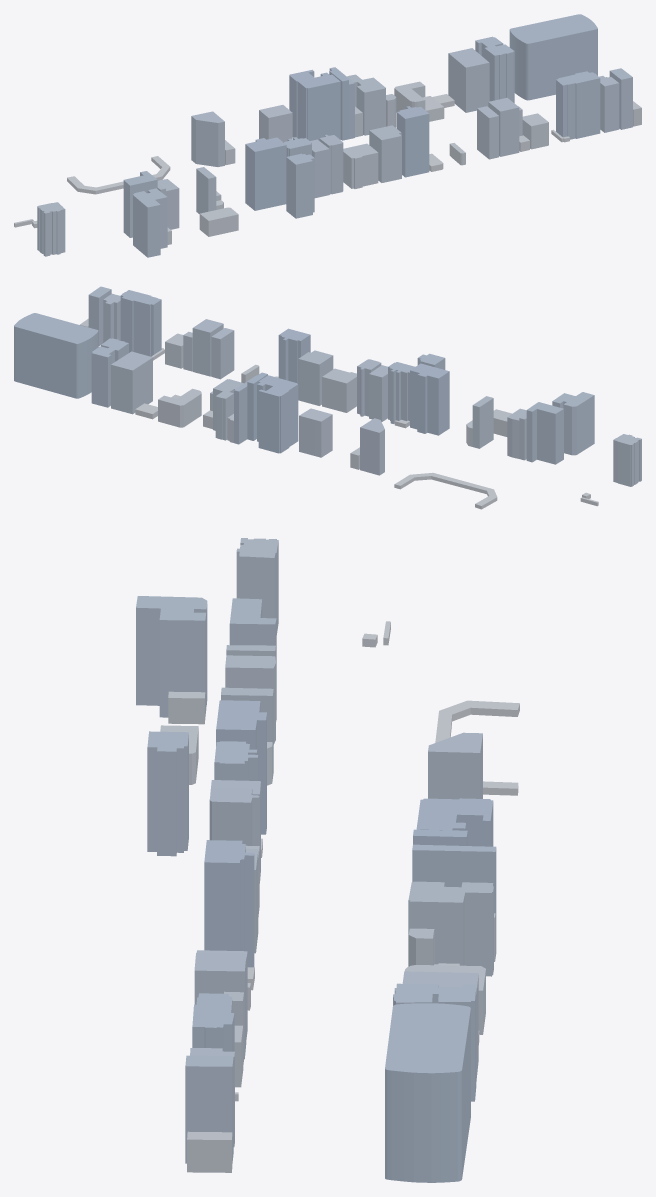
3 renders of one model, top to bottom at view 1: azimuth 30°, elevation 25°; view 2: azimuth 150°, elevation 25°; view 3: azimuth 270°, elevation 25°, orthographic. The views are drawn at different scales.
Bounding box in the file's own units: 518 × 49.41 × 150.
